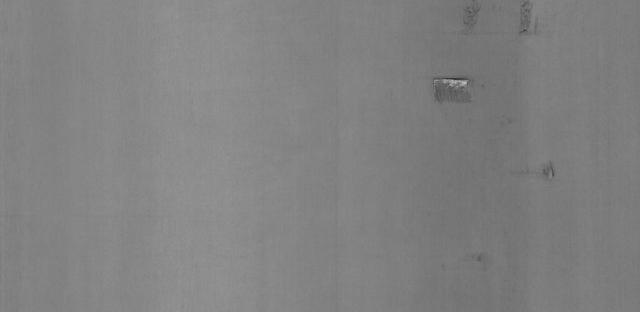rolled_pit: (430, 73, 478, 107), (511, 0, 543, 39), (454, 0, 485, 33), (533, 158, 565, 186)
